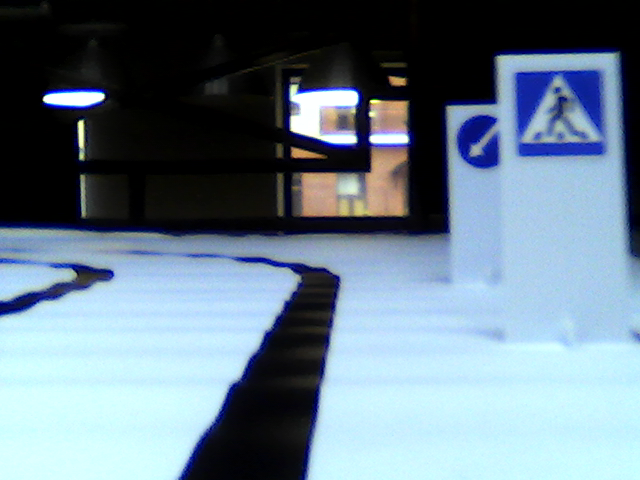pesh: (512, 68, 603, 157)
